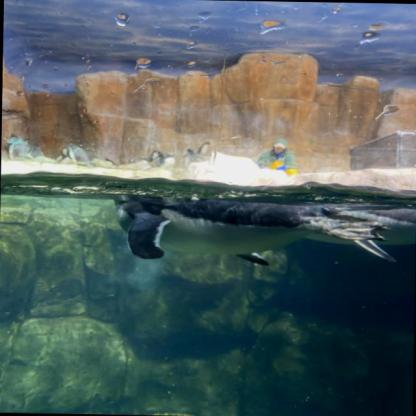penguin: (112, 180, 390, 268), (270, 202, 416, 246), (51, 141, 93, 168), (2, 132, 34, 164), (140, 147, 166, 170), (180, 148, 204, 172), (195, 139, 213, 157)
